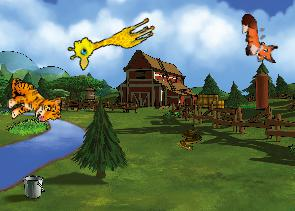fox: (239, 11, 279, 66)
giraffe: (64, 6, 158, 73)
tiger: (6, 77, 61, 123)
